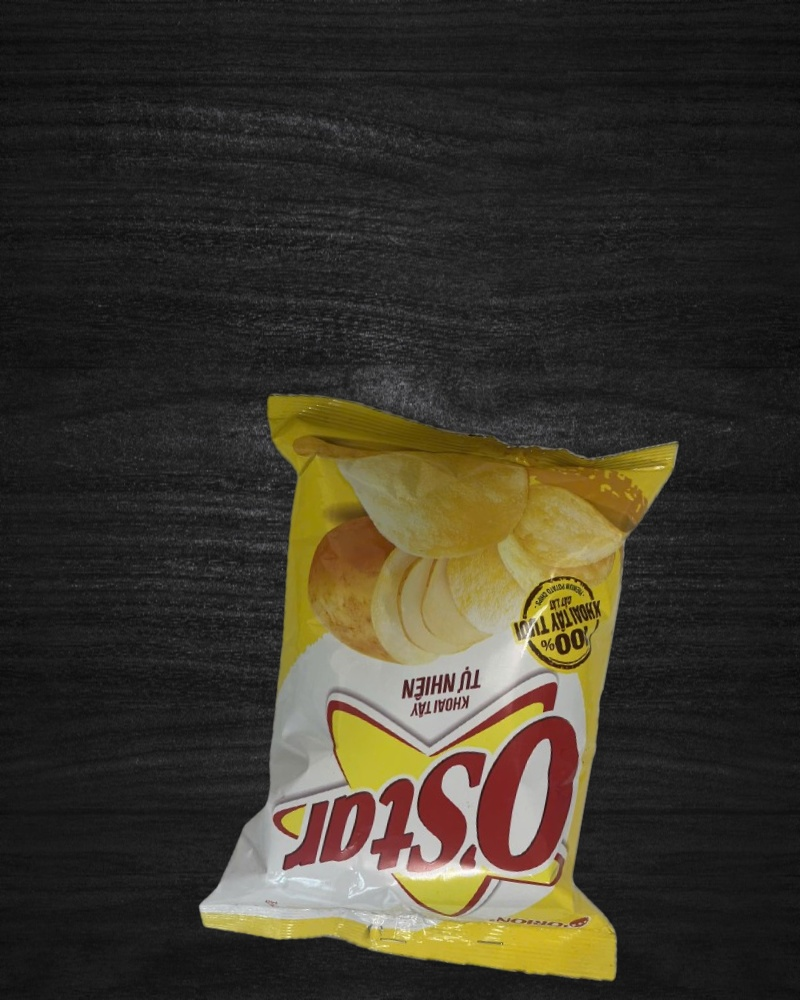Snack cua: (182, 378, 706, 993)
